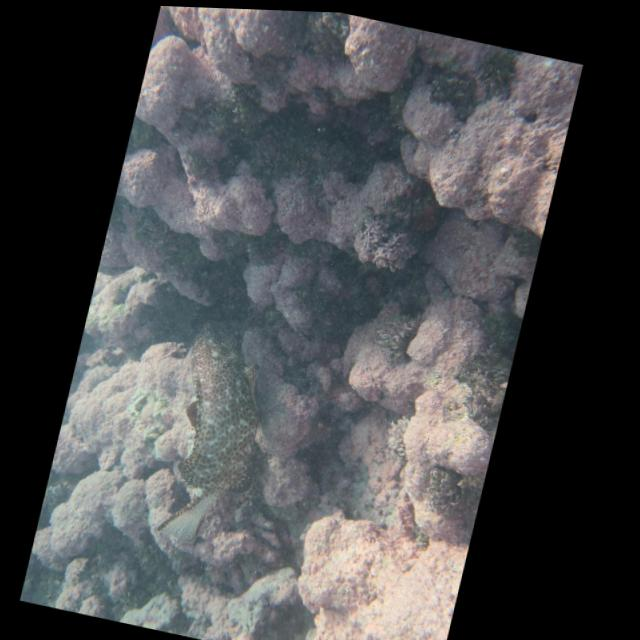Groupers: (148, 308, 288, 554)
